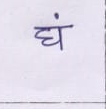anusvara: (54, 14, 59, 18)
